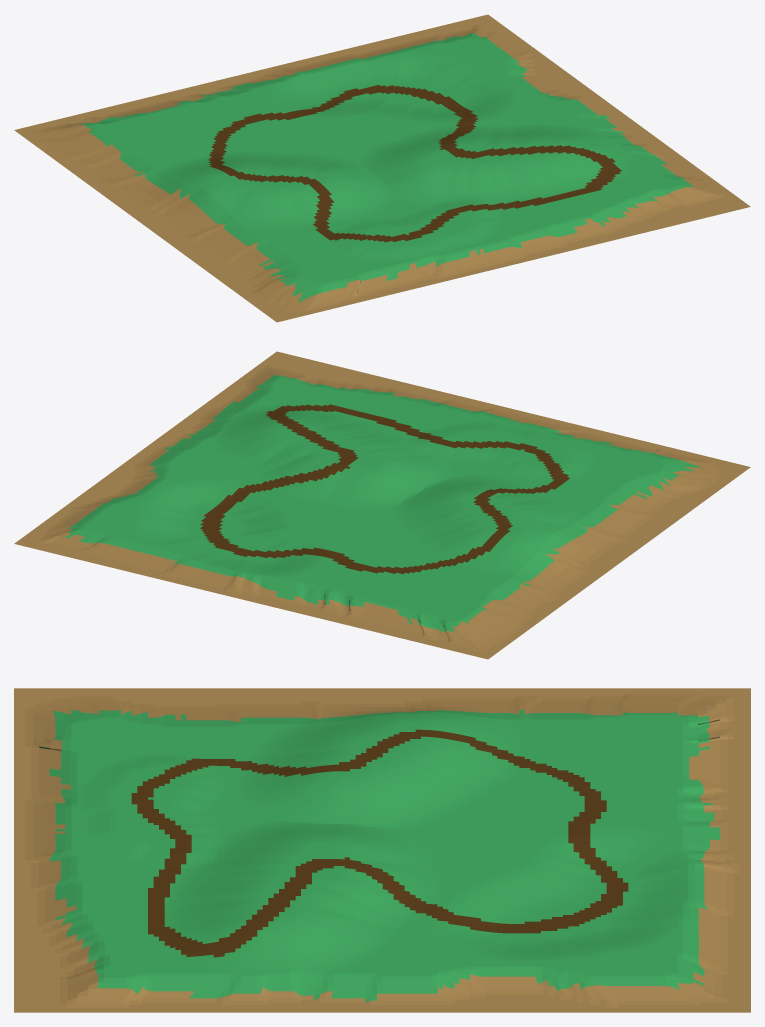
The model's file is map1.fbx.
3 views of the same model, one above another, from view 1: azimuth 30°, elevation 25°; view 2: azimuth 150°, elevation 25°; view 3: azimuth 270°, elevation 25° (orthographic). The views are drawn at different scales.
Visible parts, largest first — view 1: Plane.001, Plane.002, Plane; view 2: Plane.001, Plane.002, Plane; view 3: Plane.001, Plane.002, Plane.
Boxes of the visible parts, left/top/right/bottom form: Plane.001: left=78, top=32, right=693, bottom=302; Plane.002: left=14, top=14, right=750, bottom=322; Plane: left=208, top=85, right=621, bottom=242; Plane.001: left=64, top=375, right=701, bottom=632; Plane.002: left=14, top=351, right=750, bottom=659; Plane: left=200, top=404, right=569, bottom=573; Plane.001: left=39, top=710, right=720, bottom=1002; Plane.002: left=14, top=688, right=750, bottom=1012; Plane: left=131, top=729, right=628, bottom=957.
Bounding box in the file's own units: 2772 × 98.87 × 2662.
